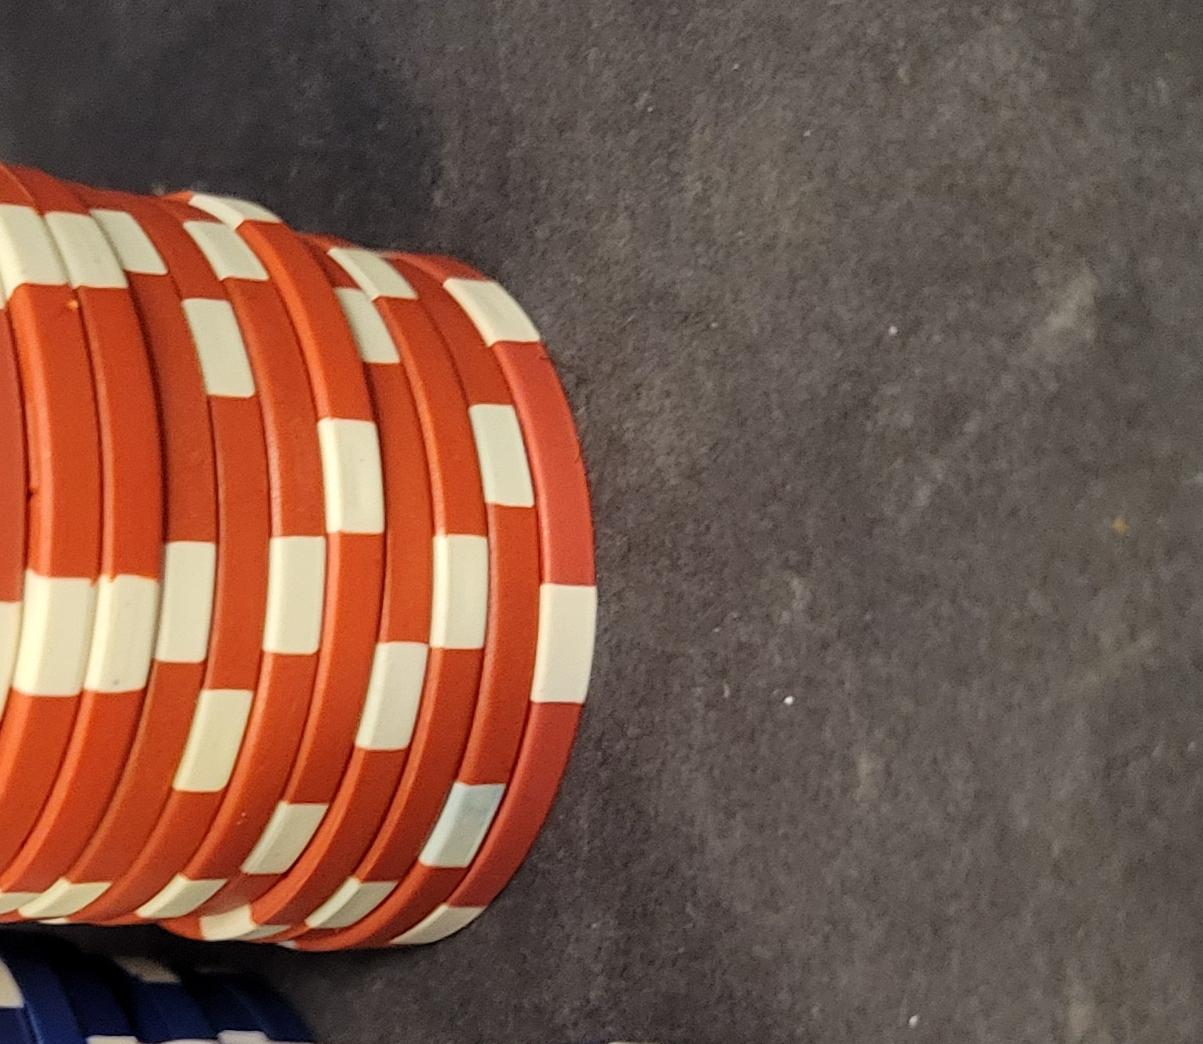Chip: (1, 255, 474, 1044)
